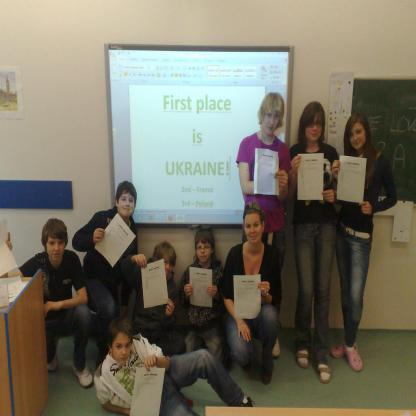face: (115, 333, 133, 366), (246, 216, 263, 242), (48, 236, 65, 260), (120, 191, 135, 218), (351, 125, 367, 149), (264, 111, 279, 134), (307, 119, 323, 140), (158, 257, 173, 279), (197, 240, 212, 261)
